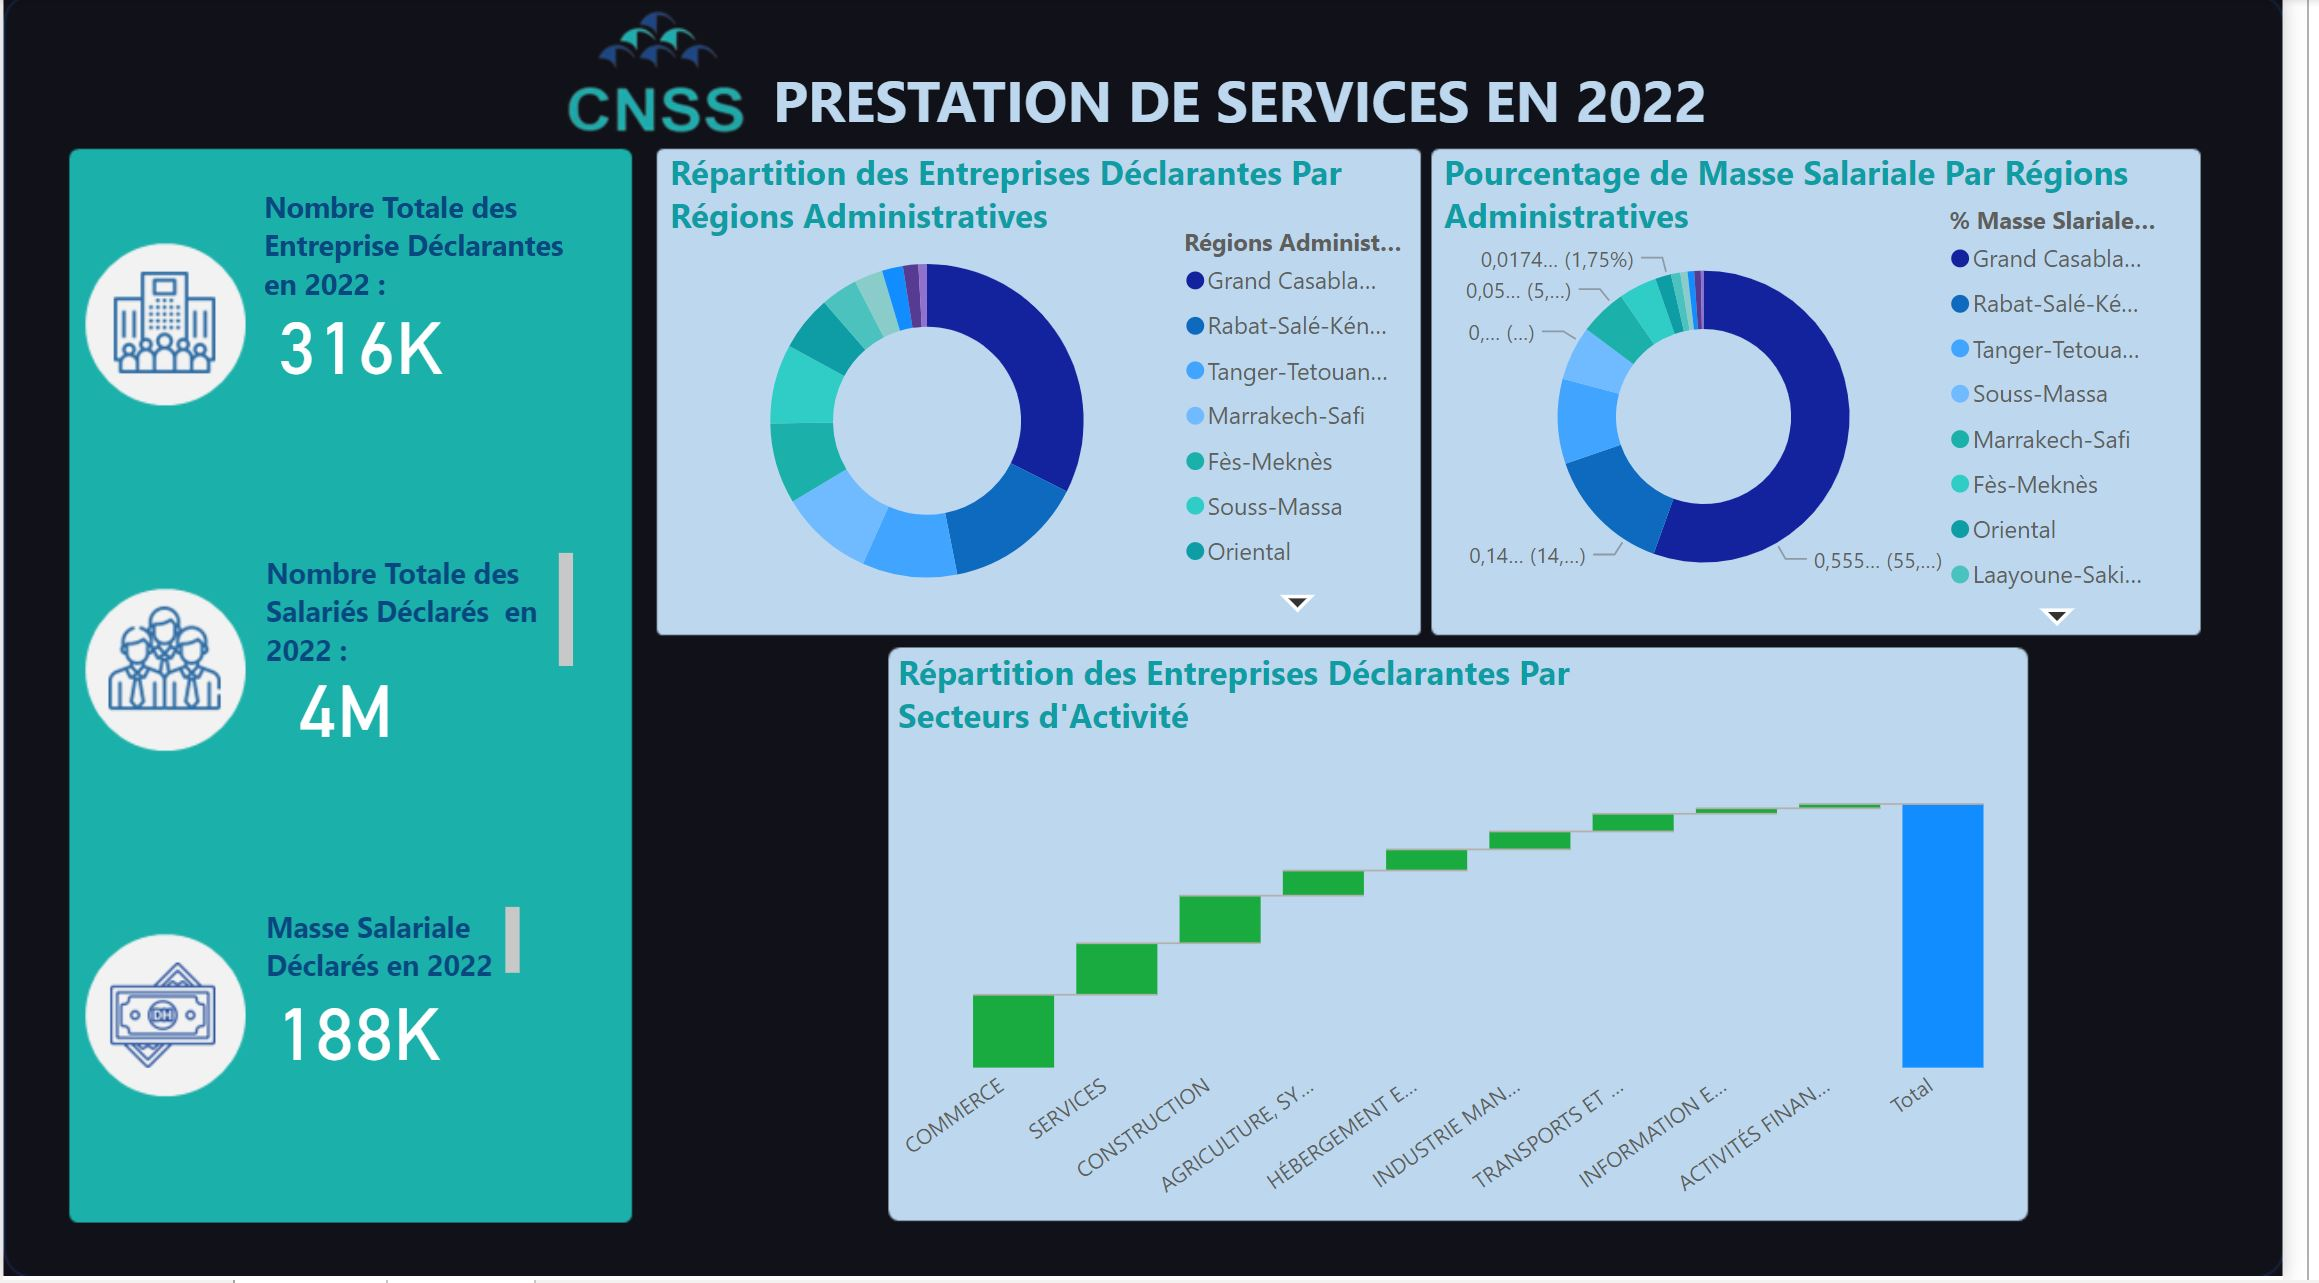

The page's visual inventory and layout, read from the dashboard file:
{"tool":"powerbi","page":{"name":"Page2","canvas":[1280,720],"ordinal":1},"visuals":[{"type":"waterfallChart","fields":{"Category":["Par Secteur d’activité (Nbre des entreprises déclarates).Secteurs d'Activités"],"Y":["Sum(Par Secteur d’activité (Nbre des entreprises déclarates).EN%)"]},"box":[497.5,421.2,643.8,262.5],"z":0},{"type":"donutChart","fields":{"Category":["Par Région Administrative (répartition la masse salariale).Column1"],"Y":["Sum(Par Région Administrative (répartition la masse salariale).EN%)"]},"box":[812.5,110,405,250],"z":1000},{"type":"textbox","box":[403.7,30.5,582.9,61],"z":2000},{"type":"card","fields":{"Values":["Par Région Administrative (Nbre des entreprises déclarates).Total_Entreprise_déclarantes"]},"box":[142.5,163.8,116.2,57.5],"z":3000},{"type":"card","fields":{"Values":["Par Région Administrative (répartition du nbr des salariés).Total_salariés"]},"box":[141.2,371.2,101.2,48.8],"z":4000},{"type":"card","fields":{"Values":["Par Région Administrative (répartition la masse salariale).Total_masse_salariale"]},"box":[142.5,552.5,113.8,50],"z":5000},{"type":"textbox","box":[141.2,101.2,183.8,77.5],"z":6000},{"type":"textbox","box":[142.5,306.2,182.5,73.8],"z":7000},{"type":"textbox","box":[142.5,505,152.5,58.8],"z":8000},{"type":"donutChart","fields":{"Category":["Par Région Administrative (Nbre des entreprises déclarates).Régions Administratives"],"Y":["Sum(Par Région Administrative (Nbre des entreprises déclarates).Nombre des entreprises déclarantes 2022)"]},"box":[370,122.5,423.8,230],"z":9000},{"type":"textbox","box":[370,80,423.8,60],"z":10000},{"type":"textbox","box":[497.5,360,423.8,60],"z":11000},{"type":"textbox","box":[803.8,80,423.8,60],"z":12000}]}

Visuals, with their boxes in screenshot pixels (x1, y1, x2, y2), scaled from the page's 1280x720 canvas onto the 2319x1283 screenshot:
waterfallChart - Par Secteur d’activité (Nbre des entreprises déclarates).Secteurs d'Activités x Sum(Par Secteur d’activité (Nbre des entreprises déclarates).EN%): [901,751,2068,1218]
donutChart - Par Région Administrative (répartition la masse salariale).Column1 x Sum(Par Région Administrative (répartition la masse salariale).EN%): [1472,196,2206,642]
textbox: [731,54,1787,163]
card - Par Région Administrative (Nbre des entreprises déclarates).Total_Entreprise_déclarantes: [258,292,469,394]
card - Par Région Administrative (répartition du nbr des salariés).Total_salariés: [256,661,439,748]
card - Par Région Administrative (répartition la masse salariale).Total_masse_salariale: [258,985,464,1074]
textbox: [256,180,589,318]
textbox: [258,546,589,677]
textbox: [258,900,534,1005]
donutChart - Par Région Administrative (Nbre des entreprises déclarates).Régions Administratives x Sum(Par Région Administrative (Nbre des entreprises déclarates).Nombre des entreprises déclarantes 2022): [670,218,1438,628]
textbox: [670,143,1438,249]
textbox: [901,642,1669,748]
textbox: [1456,143,2224,249]
